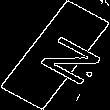N_NW: (17, 24, 93, 86)
